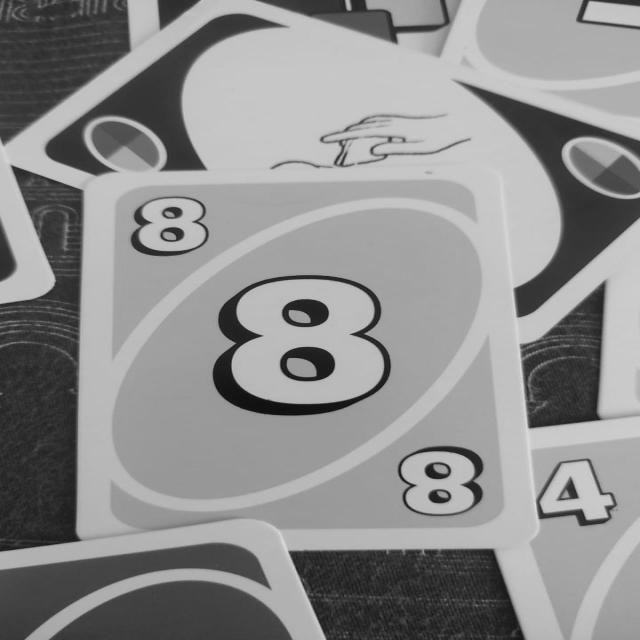card_4: (506, 416, 640, 639)
card_8: (80, 171, 546, 550)
wild_card: (41, 9, 640, 344)
